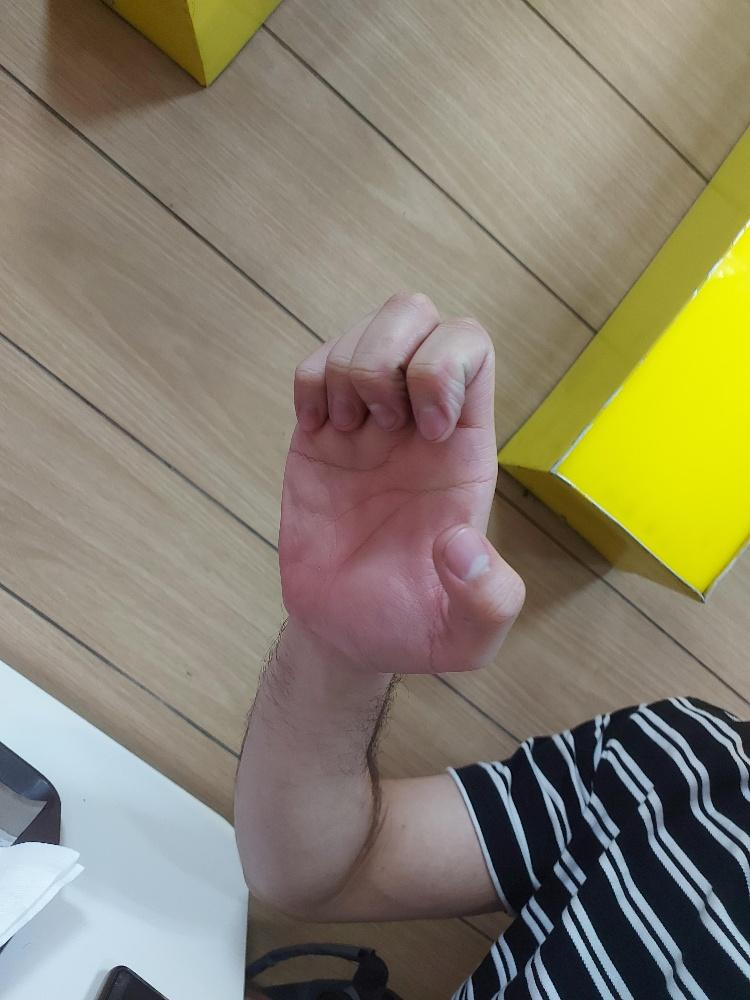e: (273, 282, 531, 673)
